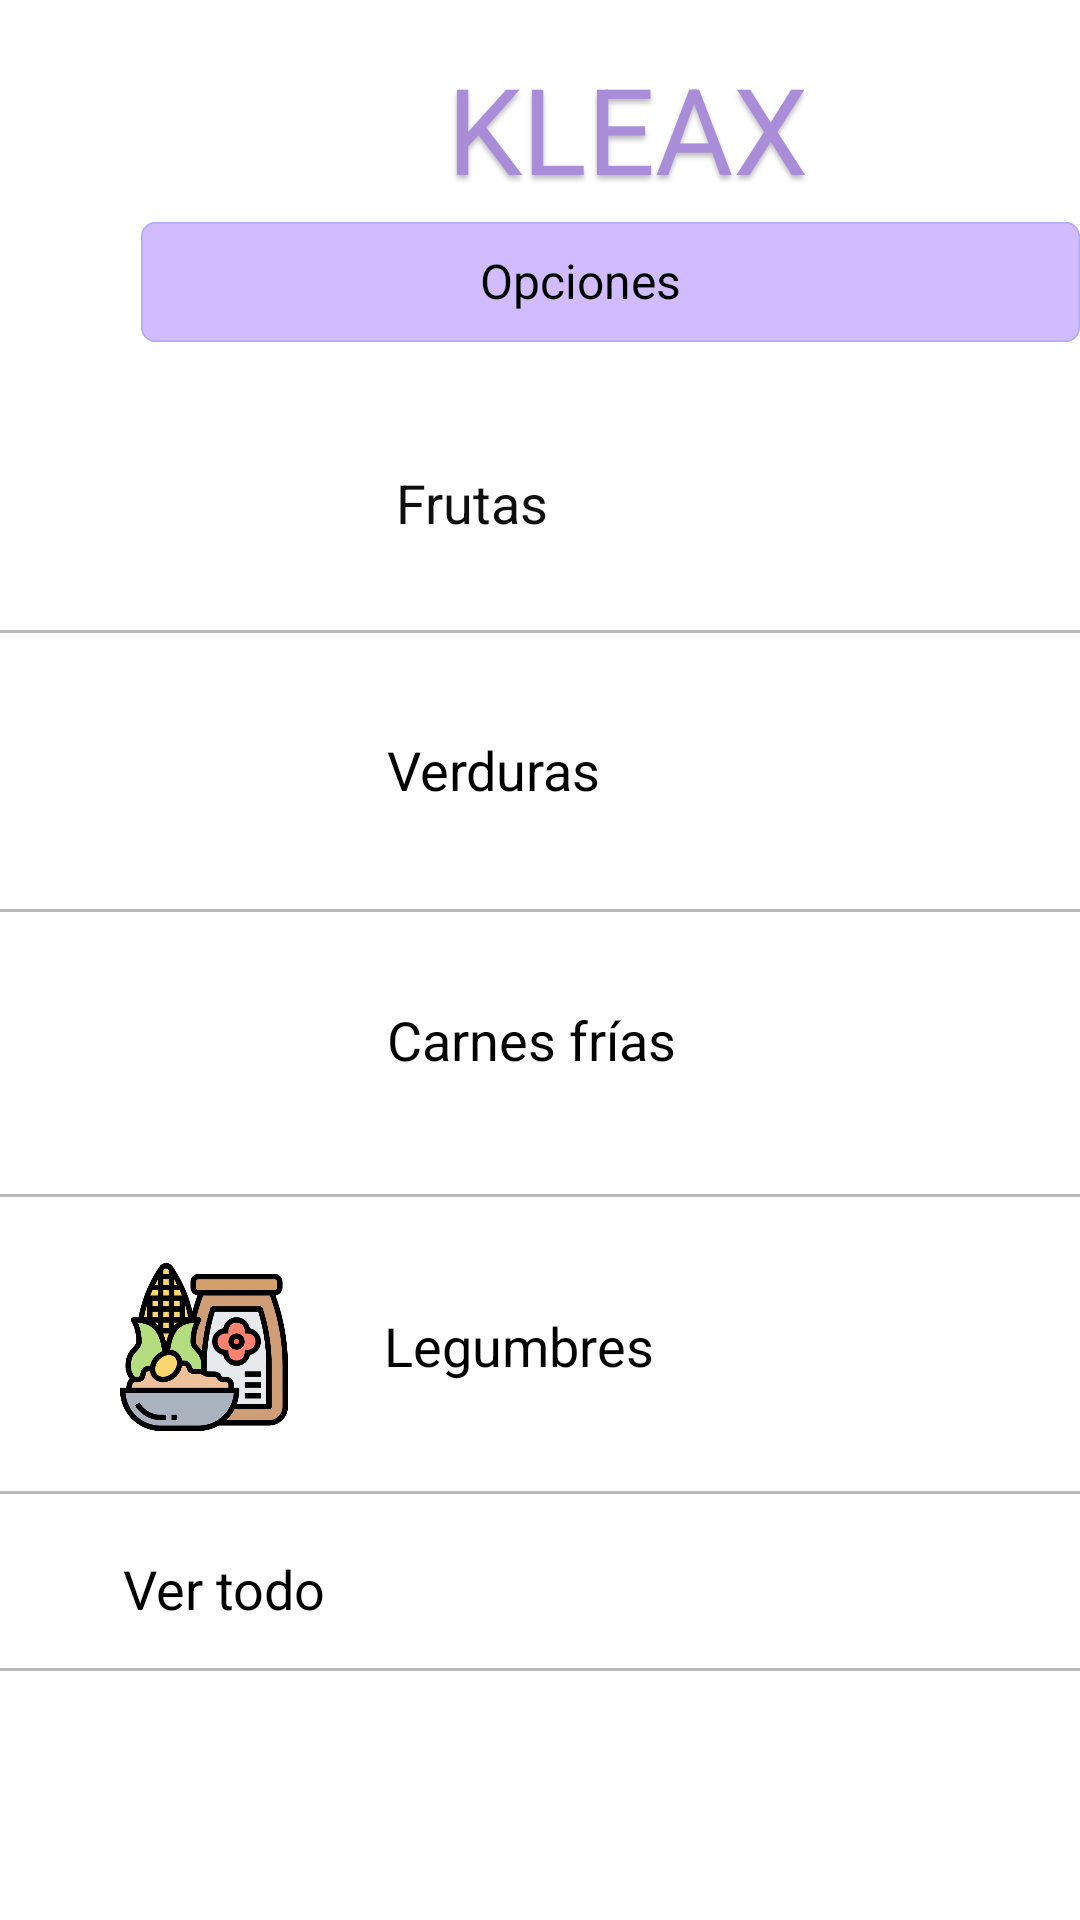

Where to tap for icons on this 1080px x 1920px app screen, as [x,y]:
cereal: [204,1347]
